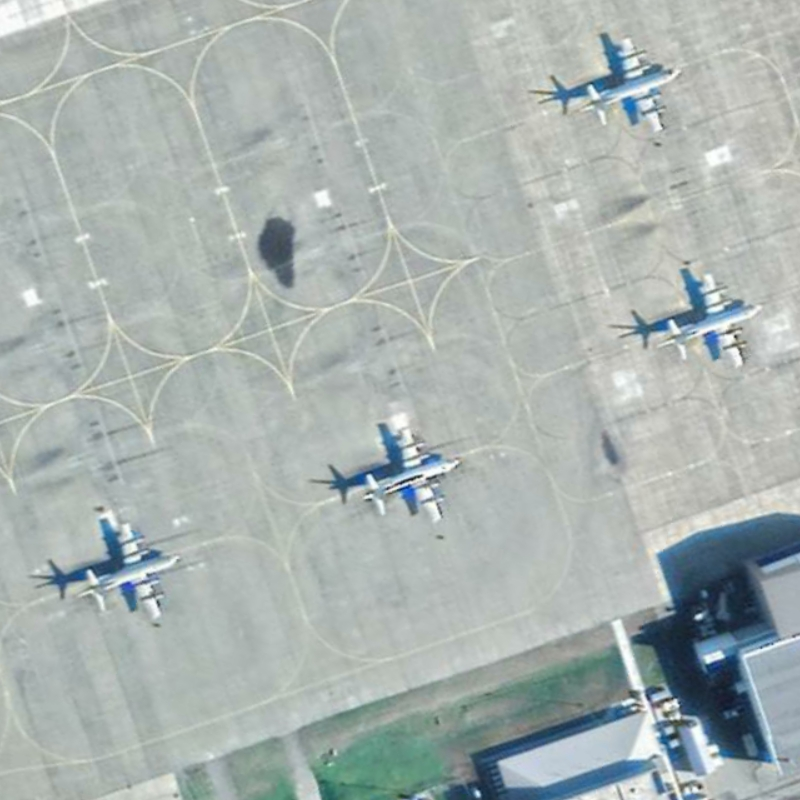A9: (349, 413, 459, 533), (71, 517, 185, 630), (649, 266, 765, 377), (578, 22, 687, 137)
